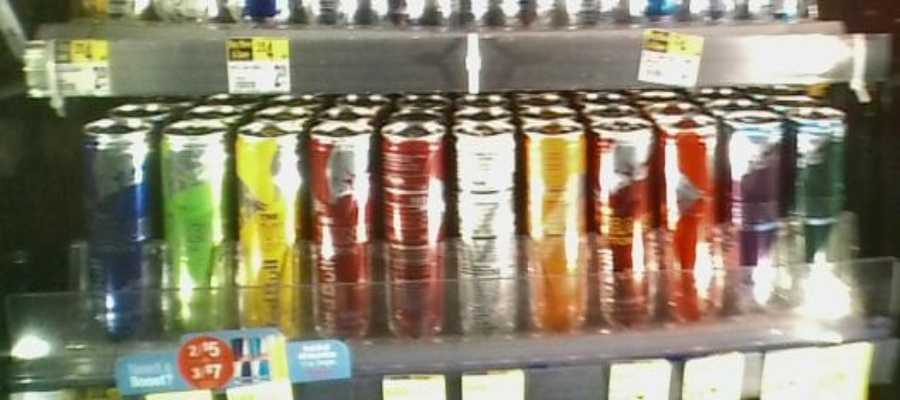bottle: (379, 114, 453, 368), (78, 110, 153, 351), (233, 117, 304, 358), (525, 114, 592, 360), (157, 119, 228, 350), (310, 112, 374, 367), (454, 121, 521, 351), (594, 117, 657, 348), (795, 105, 853, 336), (727, 112, 788, 330), (664, 117, 722, 340)
